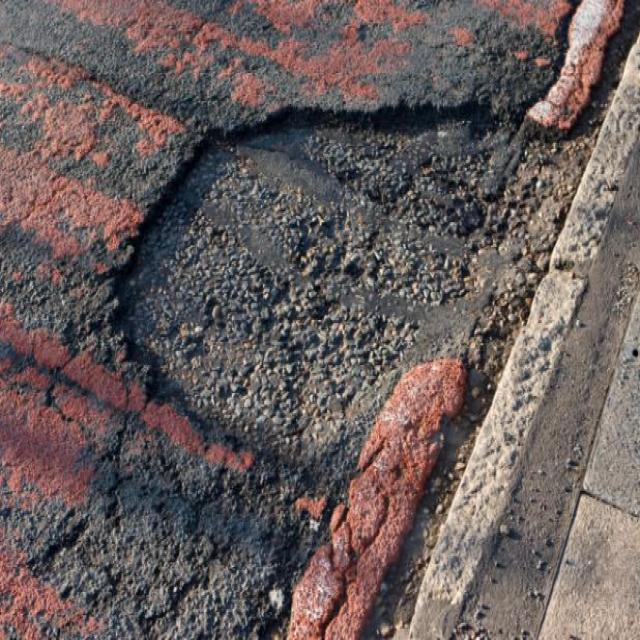pothole: (104, 89, 562, 478)
